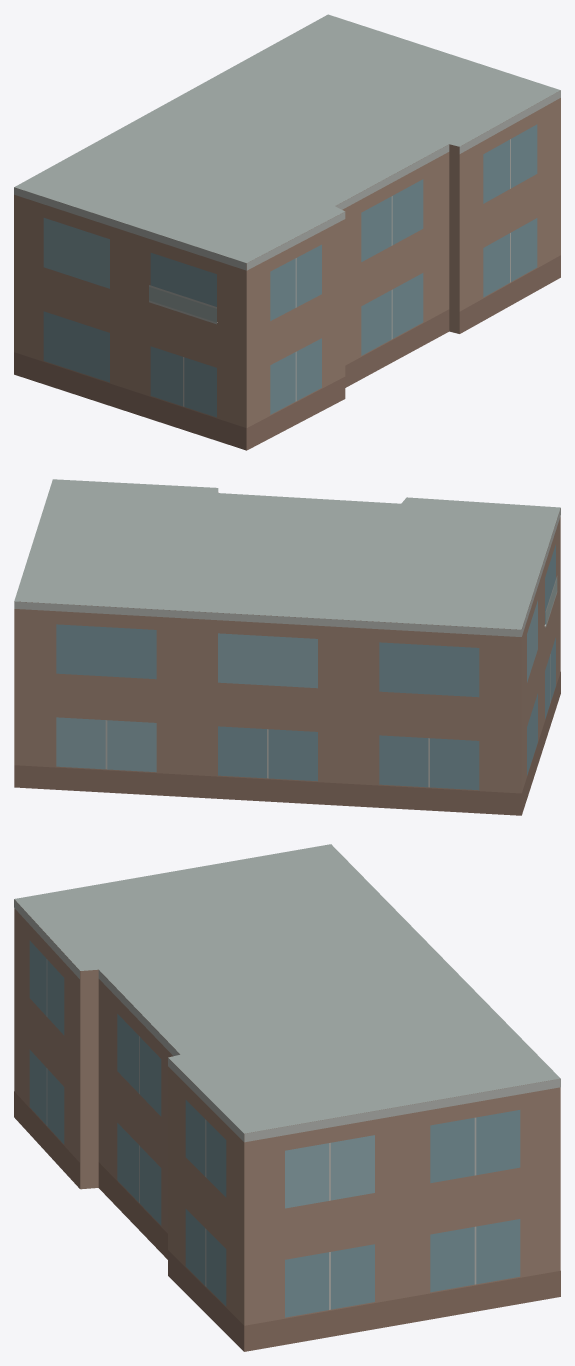
The model's file is survey-upis-33011530.glb.
3 views of the same model, one above another, from view 1: azimuth 30°, elevation 25°; view 2: azimuth 150°, elevation 25°; view 3: azimuth 270°, elevation 25° (orthographic). The views are drawn at different scales.
Visible parts, largest first — view 1: survey-upis-33011530.tmp; view 2: survey-upis-33011530.tmp; view 3: survey-upis-33011530.tmp.
Part boxes in pixels (left/top/right/bottom): survey-upis-33011530.tmp: left=14, top=14, right=560, bottom=450; survey-upis-33011530.tmp: left=14, top=479, right=560, bottom=815; survey-upis-33011530.tmp: left=14, top=844, right=560, bottom=1351.
Size of the model in its own units: 17.37 by 6.1 by 13.86.
